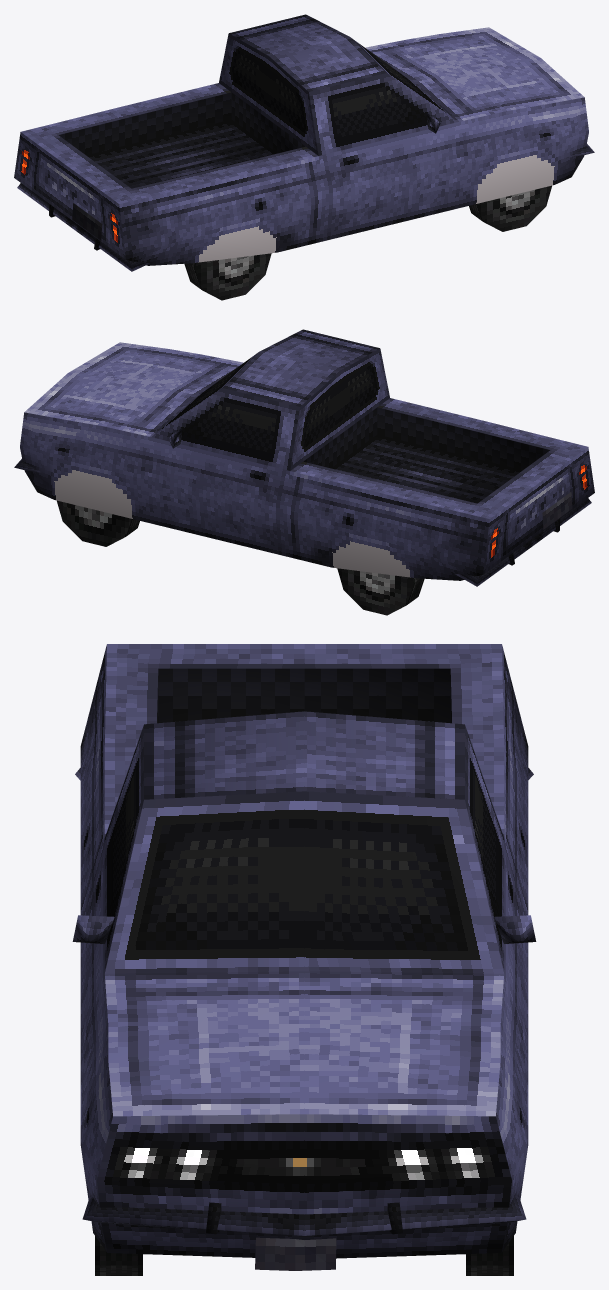
File: psx_low-poly_truck.glb
The picture shows the model from 3 angles, top to bottom: view 1: azimuth 30°, elevation 25°; view 2: azimuth 150°, elevation 25°; view 3: azimuth 270°, elevation 25°; orthographic projection. The views are drawn at different scales.
Parts seen in each view (by area): view 1: Car - Truck, Tire.006, Tire.005, LicensePlate.003; view 2: Car - Truck, Tire.007, Tire.008, LicensePlate.003; view 3: Car - Truck, LicensePlate.003, Tire.005, Tire.008.
Part boxes in pixels (x1,y1,x2,y2): Car - Truck: (14, 14, 594, 271); Tire.006: (184, 253, 271, 300); Tire.005: (469, 185, 551, 231); LicensePlate.003: (72, 203, 102, 240); Car - Truck: (14, 329, 594, 586); Tire.007: (337, 568, 424, 615); Tire.008: (57, 500, 139, 546); LicensePlate.003: (542, 492, 572, 529); Car - Truck: (72, 644, 536, 1258); LicensePlate.003: (255, 1237, 336, 1270); Tire.005: (95, 1236, 142, 1275); Tire.008: (466, 1236, 513, 1275).
Bounding box in the file's own units: 5.87 × 2.09 × 2.42.
Materials: 3 (3 with a texture image).
